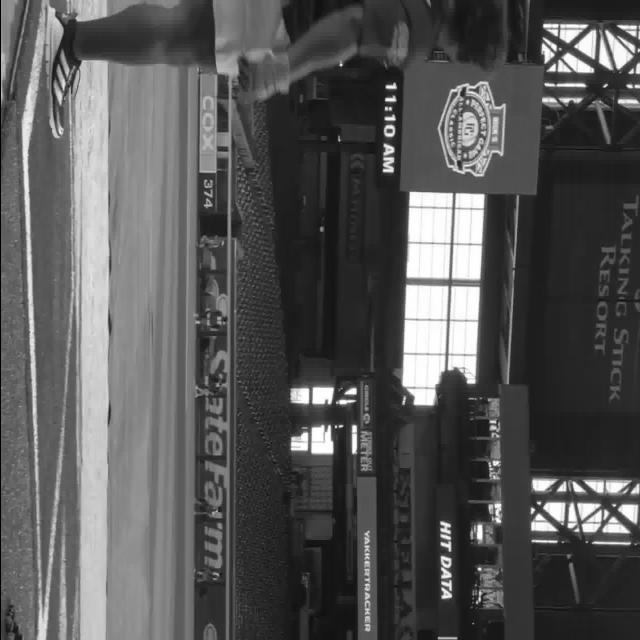shoe: (44, 5, 81, 139)
